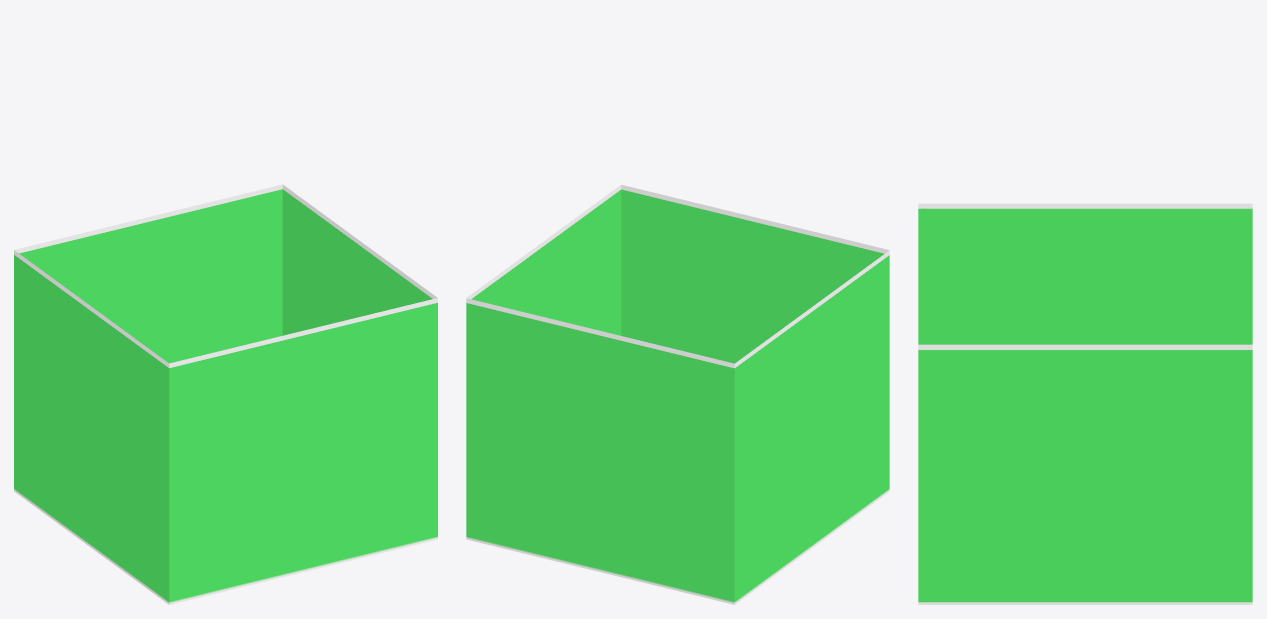
File: servicing.glb
The picture shows the model from 3 angles, left to right: view 1: azimuth 30°, elevation 25°; view 2: azimuth 150°, elevation 25°; view 3: azimuth 270°, elevation 25°; orthographic projection. The views are drawn at different scales.
Visible parts, largest first — view 1: idle; view 2: idle; view 3: idle.
Part boxes in pixels (x1,y1,x2,y2): idle: [14, 184, 437, 604]; idle: [466, 184, 889, 604]; idle: [918, 203, 1252, 604].
Size of the model in its own units: 2.99 by 5.14 by 2.99.
2 materials, 2 textured.
